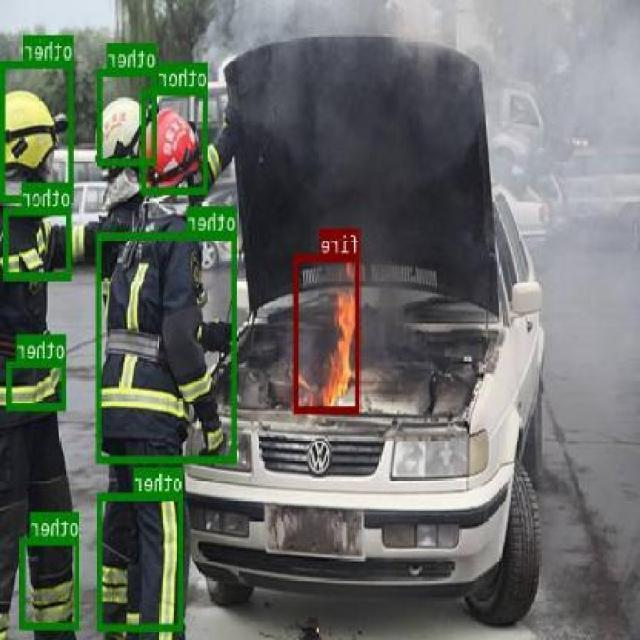Fire: (296, 254, 362, 412)
